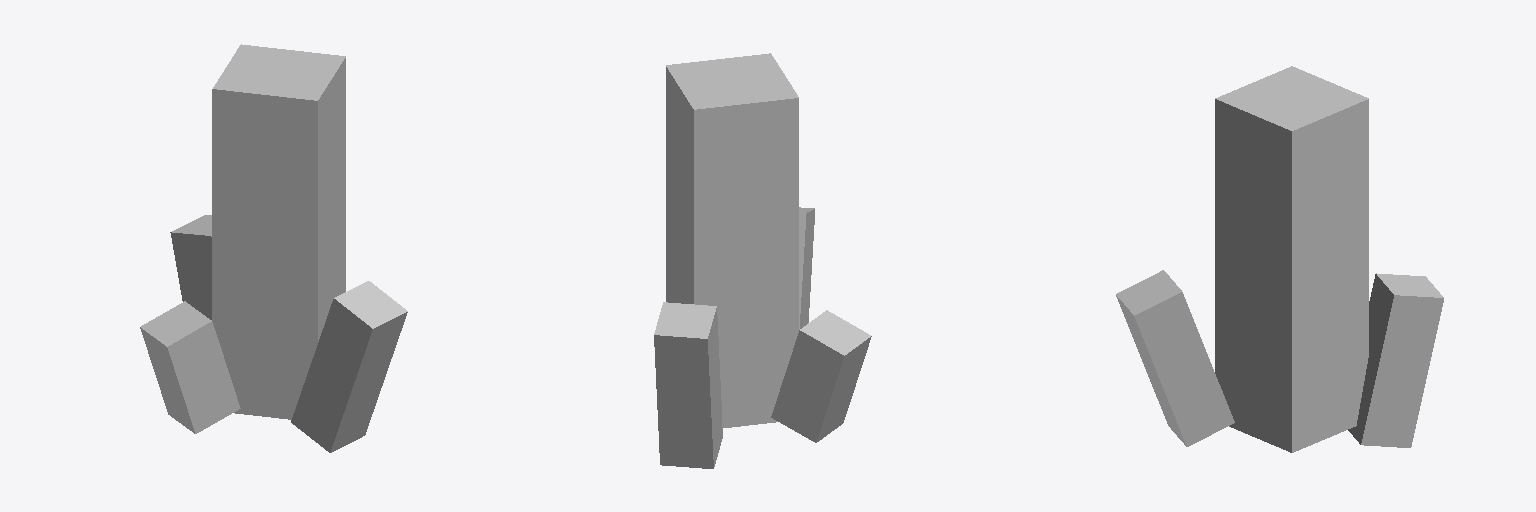
Rendered from crystal.obj.
The picture shows the model from 3 angles: view 1: azimuth 30°, elevation 25°; view 2: azimuth 150°, elevation 25°; view 3: azimuth 270°, elevation 25°; orthographic projection.
Visible parts, largest first — view 1: cube; view 2: cube; view 3: cube.
Part boxes in pixels (x1,y1,x2,y2): cube: (140, 44, 407, 452); cube: (654, 53, 871, 468); cube: (1116, 66, 1443, 452).
Bounding box in the file's own units: 0.5092 × 0.8666 × 0.7525.